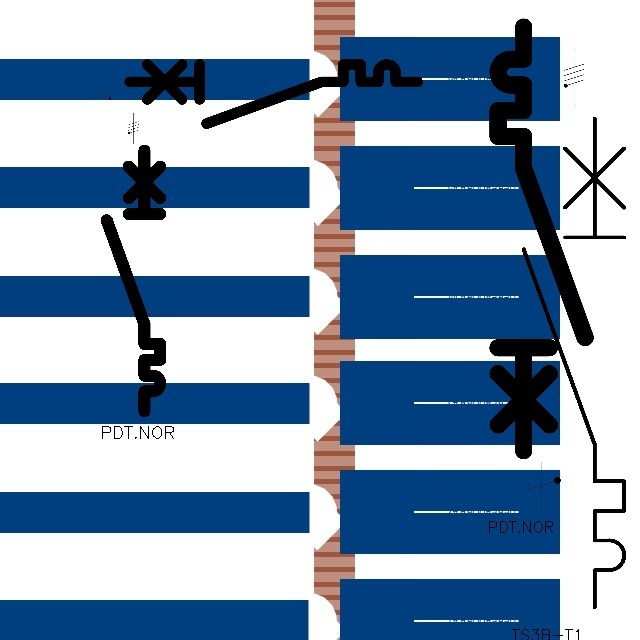interruptor_termomagnetico: (511, 106, 637, 620), (487, 16, 596, 461), (122, 57, 425, 131), (100, 144, 167, 418)
